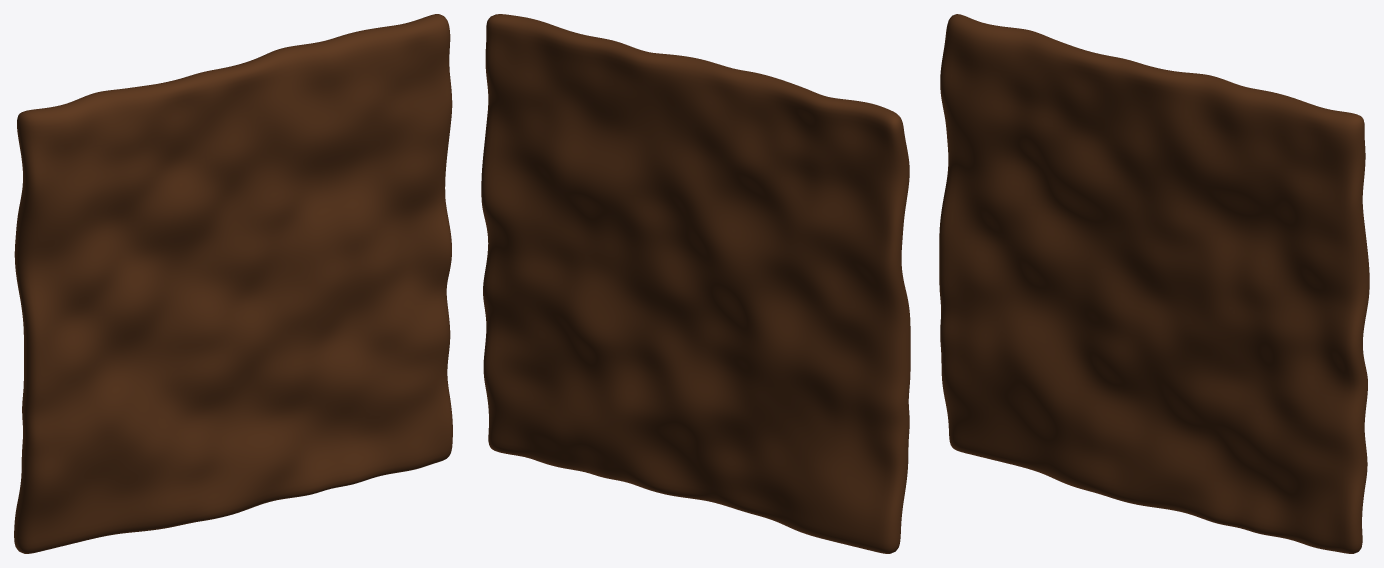
Rendered from Chão da praça.glb.
3 renders of one model, left to right at view 1: azimuth 30°, elevation 25°; view 2: azimuth 150°, elevation 25°; view 3: azimuth 330°, elevation 25°, orthographic.
Parts seen in each view (by area): view 1: Plane; view 2: Plane; view 3: Plane.
Part boxes in pixels (box(x1,y1,x2,y2)): Plane: box(14, 14, 452, 553); Plane: box(481, 14, 910, 553); Plane: box(939, 14, 1369, 553).
Size of the model in its own units: 11.68 by 11.68 by 1.15.
